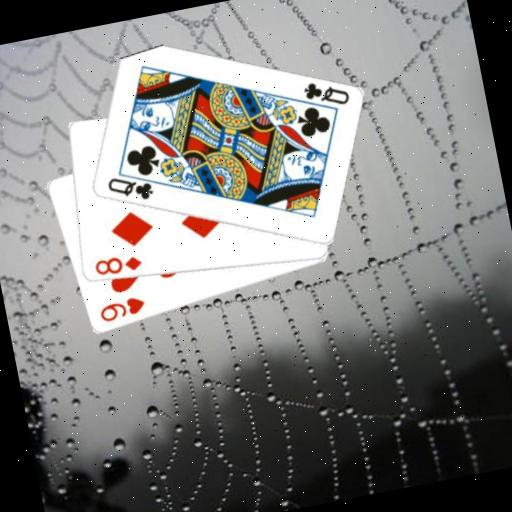8D: (90, 249, 144, 280)
9H: (94, 293, 148, 326)
QC: (103, 168, 157, 209), (298, 73, 352, 114)
